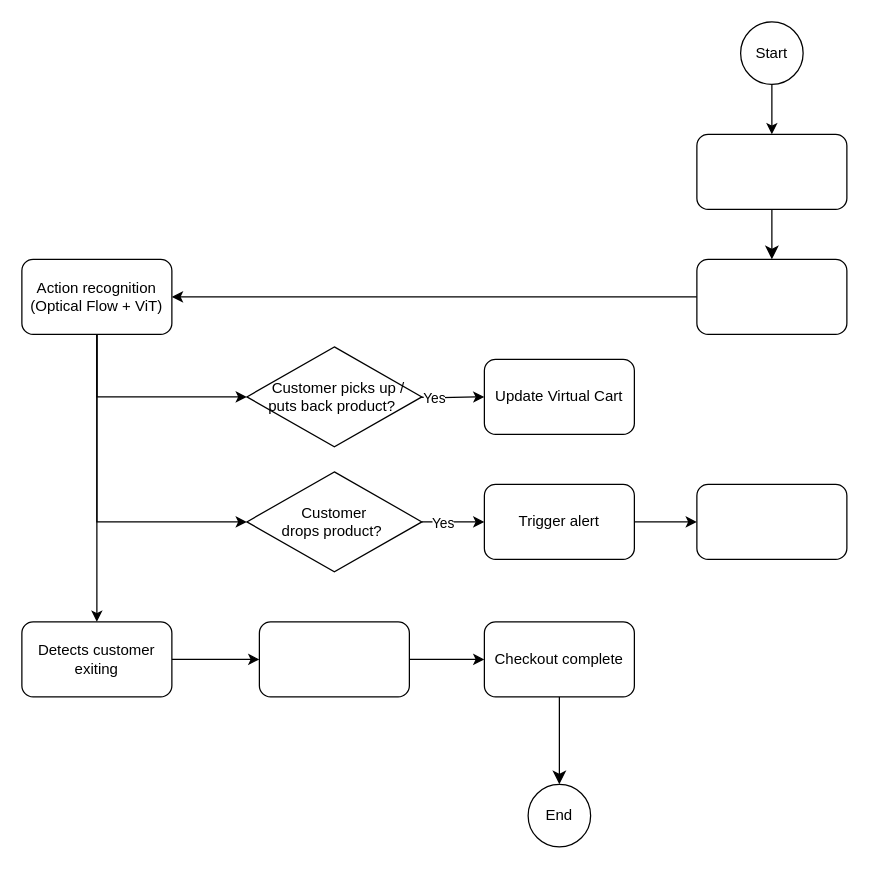
Some shapes in this 869 by 869 pixel diagram are drawn without their labels. Here are the shapes that lost their labels. From the top down, the box of each, then its label:
(696, 133, 847, 209): Customer enters the supermarket
(696, 258, 847, 334): Human recognition and tracking (YOLO + DeepSORT)
(696, 483, 847, 559): Staff handles the dropped product
(258, 621, 409, 697): Deduct payment
